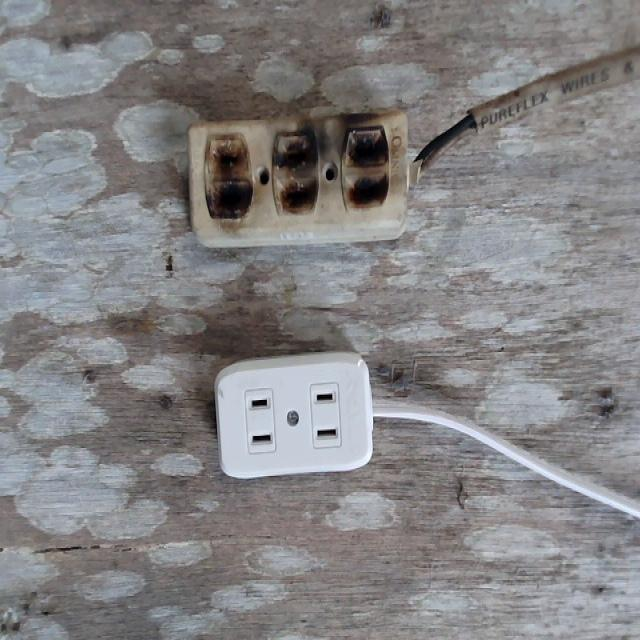-: (193, 128, 390, 221)
